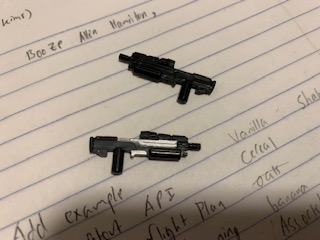rifle: (83, 127, 205, 181), (113, 50, 217, 107)
